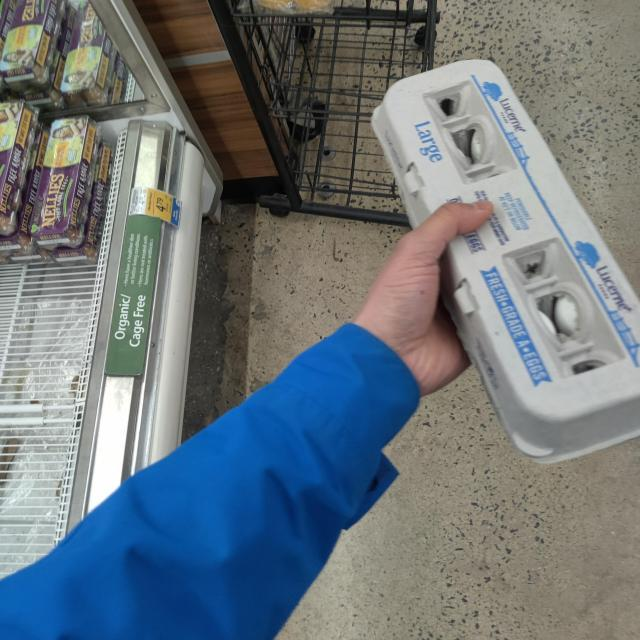Eggs: (373, 59, 640, 454), (32, 114, 98, 250), (4, 0, 67, 95), (60, 0, 111, 105)
